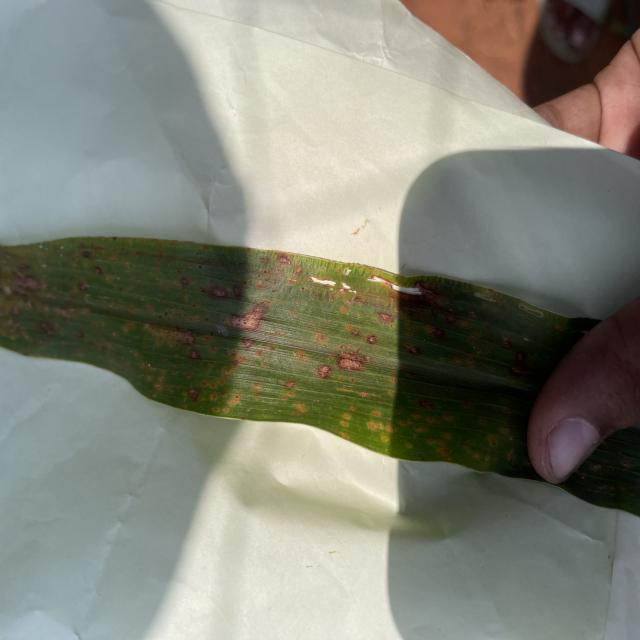millet_rust: (0, 239, 529, 476)
